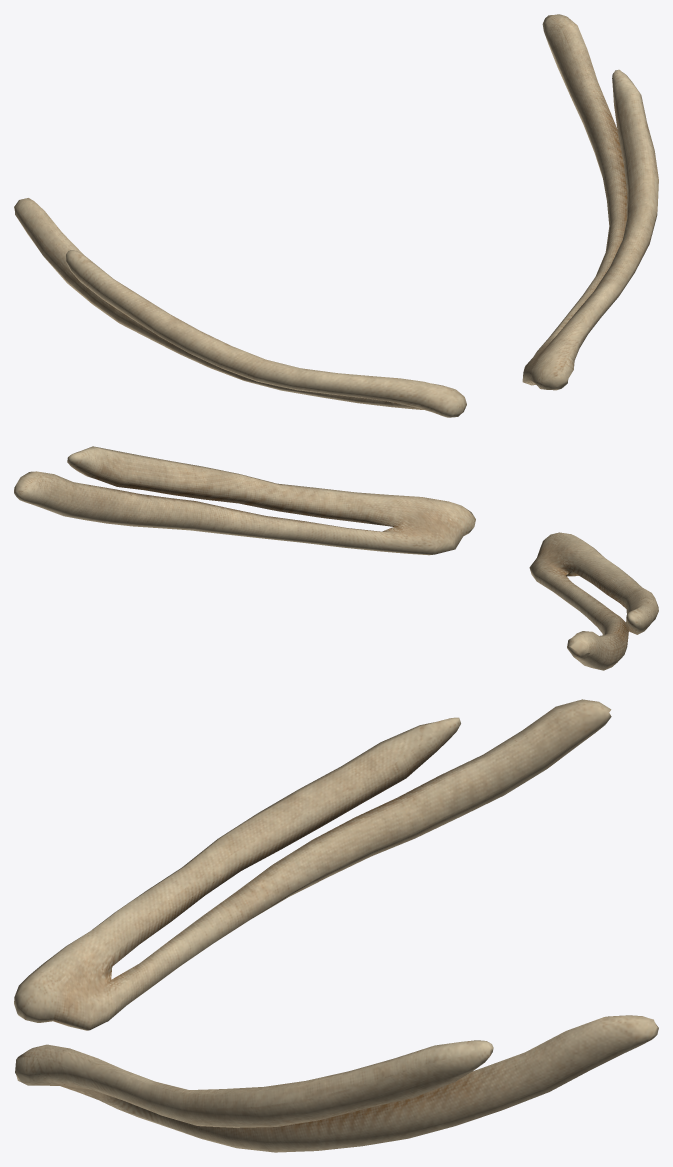
Rendered from Rib_Cartilage1.glb.
3 views of the same model, one above another, from view 1: azimuth 30°, elevation 25°; view 2: azimuth 150°, elevation 25°; view 3: azimuth 270°, elevation 25° (orthographic). The views are drawn at different scales.
Visible parts, largest first — view 1: RibCartilage2_low; view 2: RibCartilage2_low; view 3: RibCartilage2_low.
Part boxes in pixels (bbox=[...]): RibCartilage2_low: bbox=[14, 14, 658, 417]; RibCartilage2_low: bbox=[14, 446, 658, 670]; RibCartilage2_low: bbox=[14, 699, 658, 1152].
Size of the model in its own units: 0.3821 by 0.1082 by 0.2715.
1 material, 1 textured.
